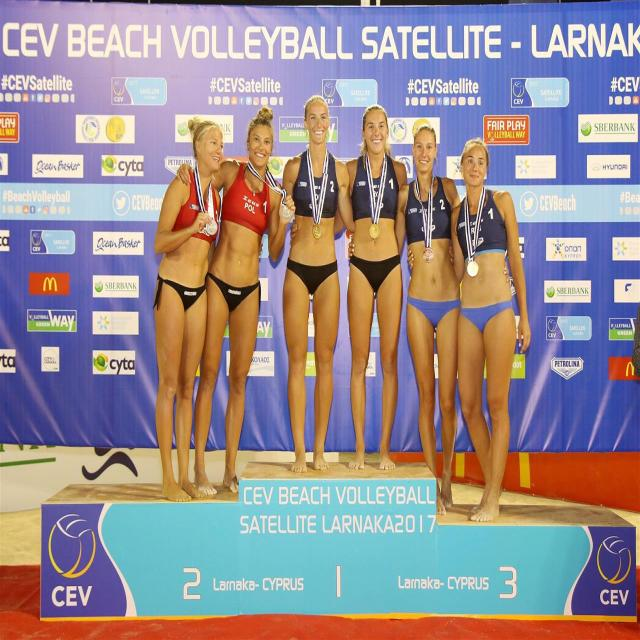body: (289, 100, 459, 472), (404, 136, 532, 521), (176, 104, 296, 497), (348, 122, 463, 517), (278, 94, 355, 473), (153, 114, 225, 507)
